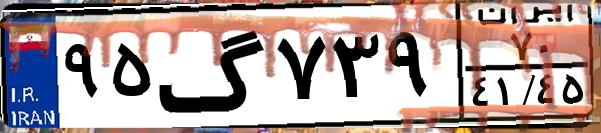0: (537, 27, 568, 80)
1: (495, 70, 520, 125)
3: (330, 28, 385, 110)
4: (470, 70, 495, 125), (535, 70, 560, 125)
5: (110, 28, 156, 98), (560, 70, 590, 125)
7: (270, 28, 330, 110), (508, 27, 537, 80)
9: (385, 28, 445, 110), (57, 26, 110, 100)
گ: (156, 12, 270, 120)
